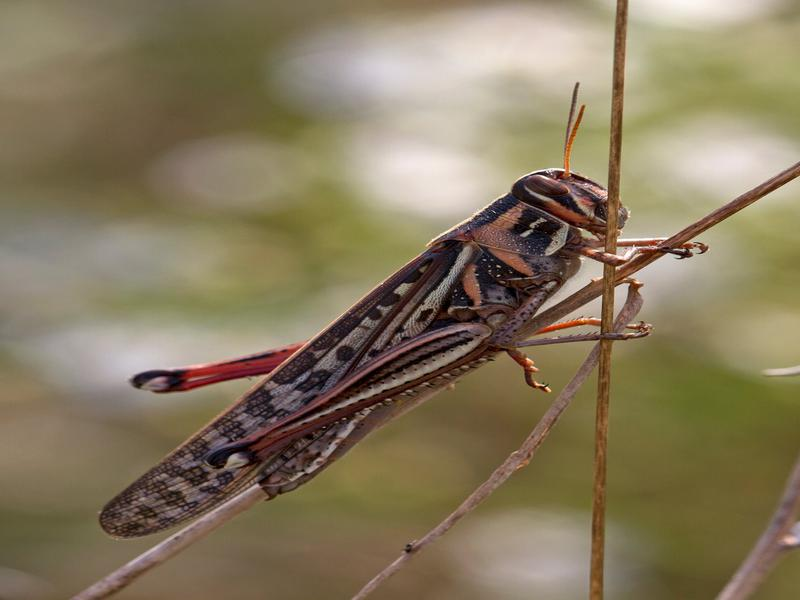Grasshopper: (79, 152, 636, 551)
